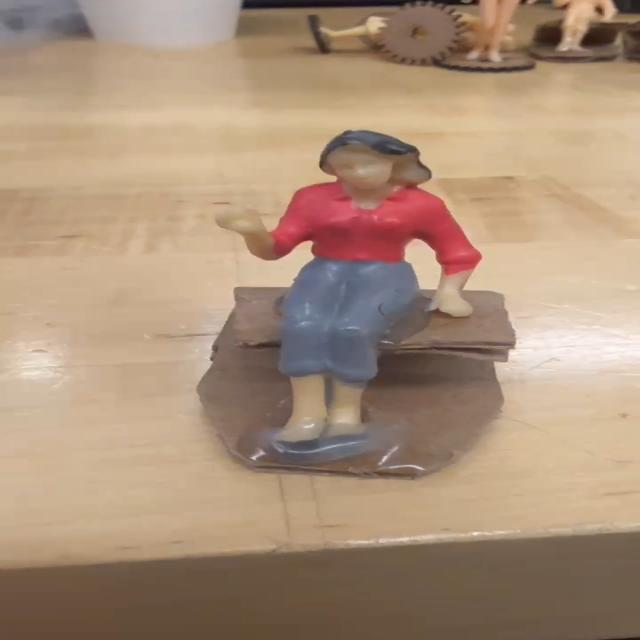Authorized: (202, 130, 488, 468)
